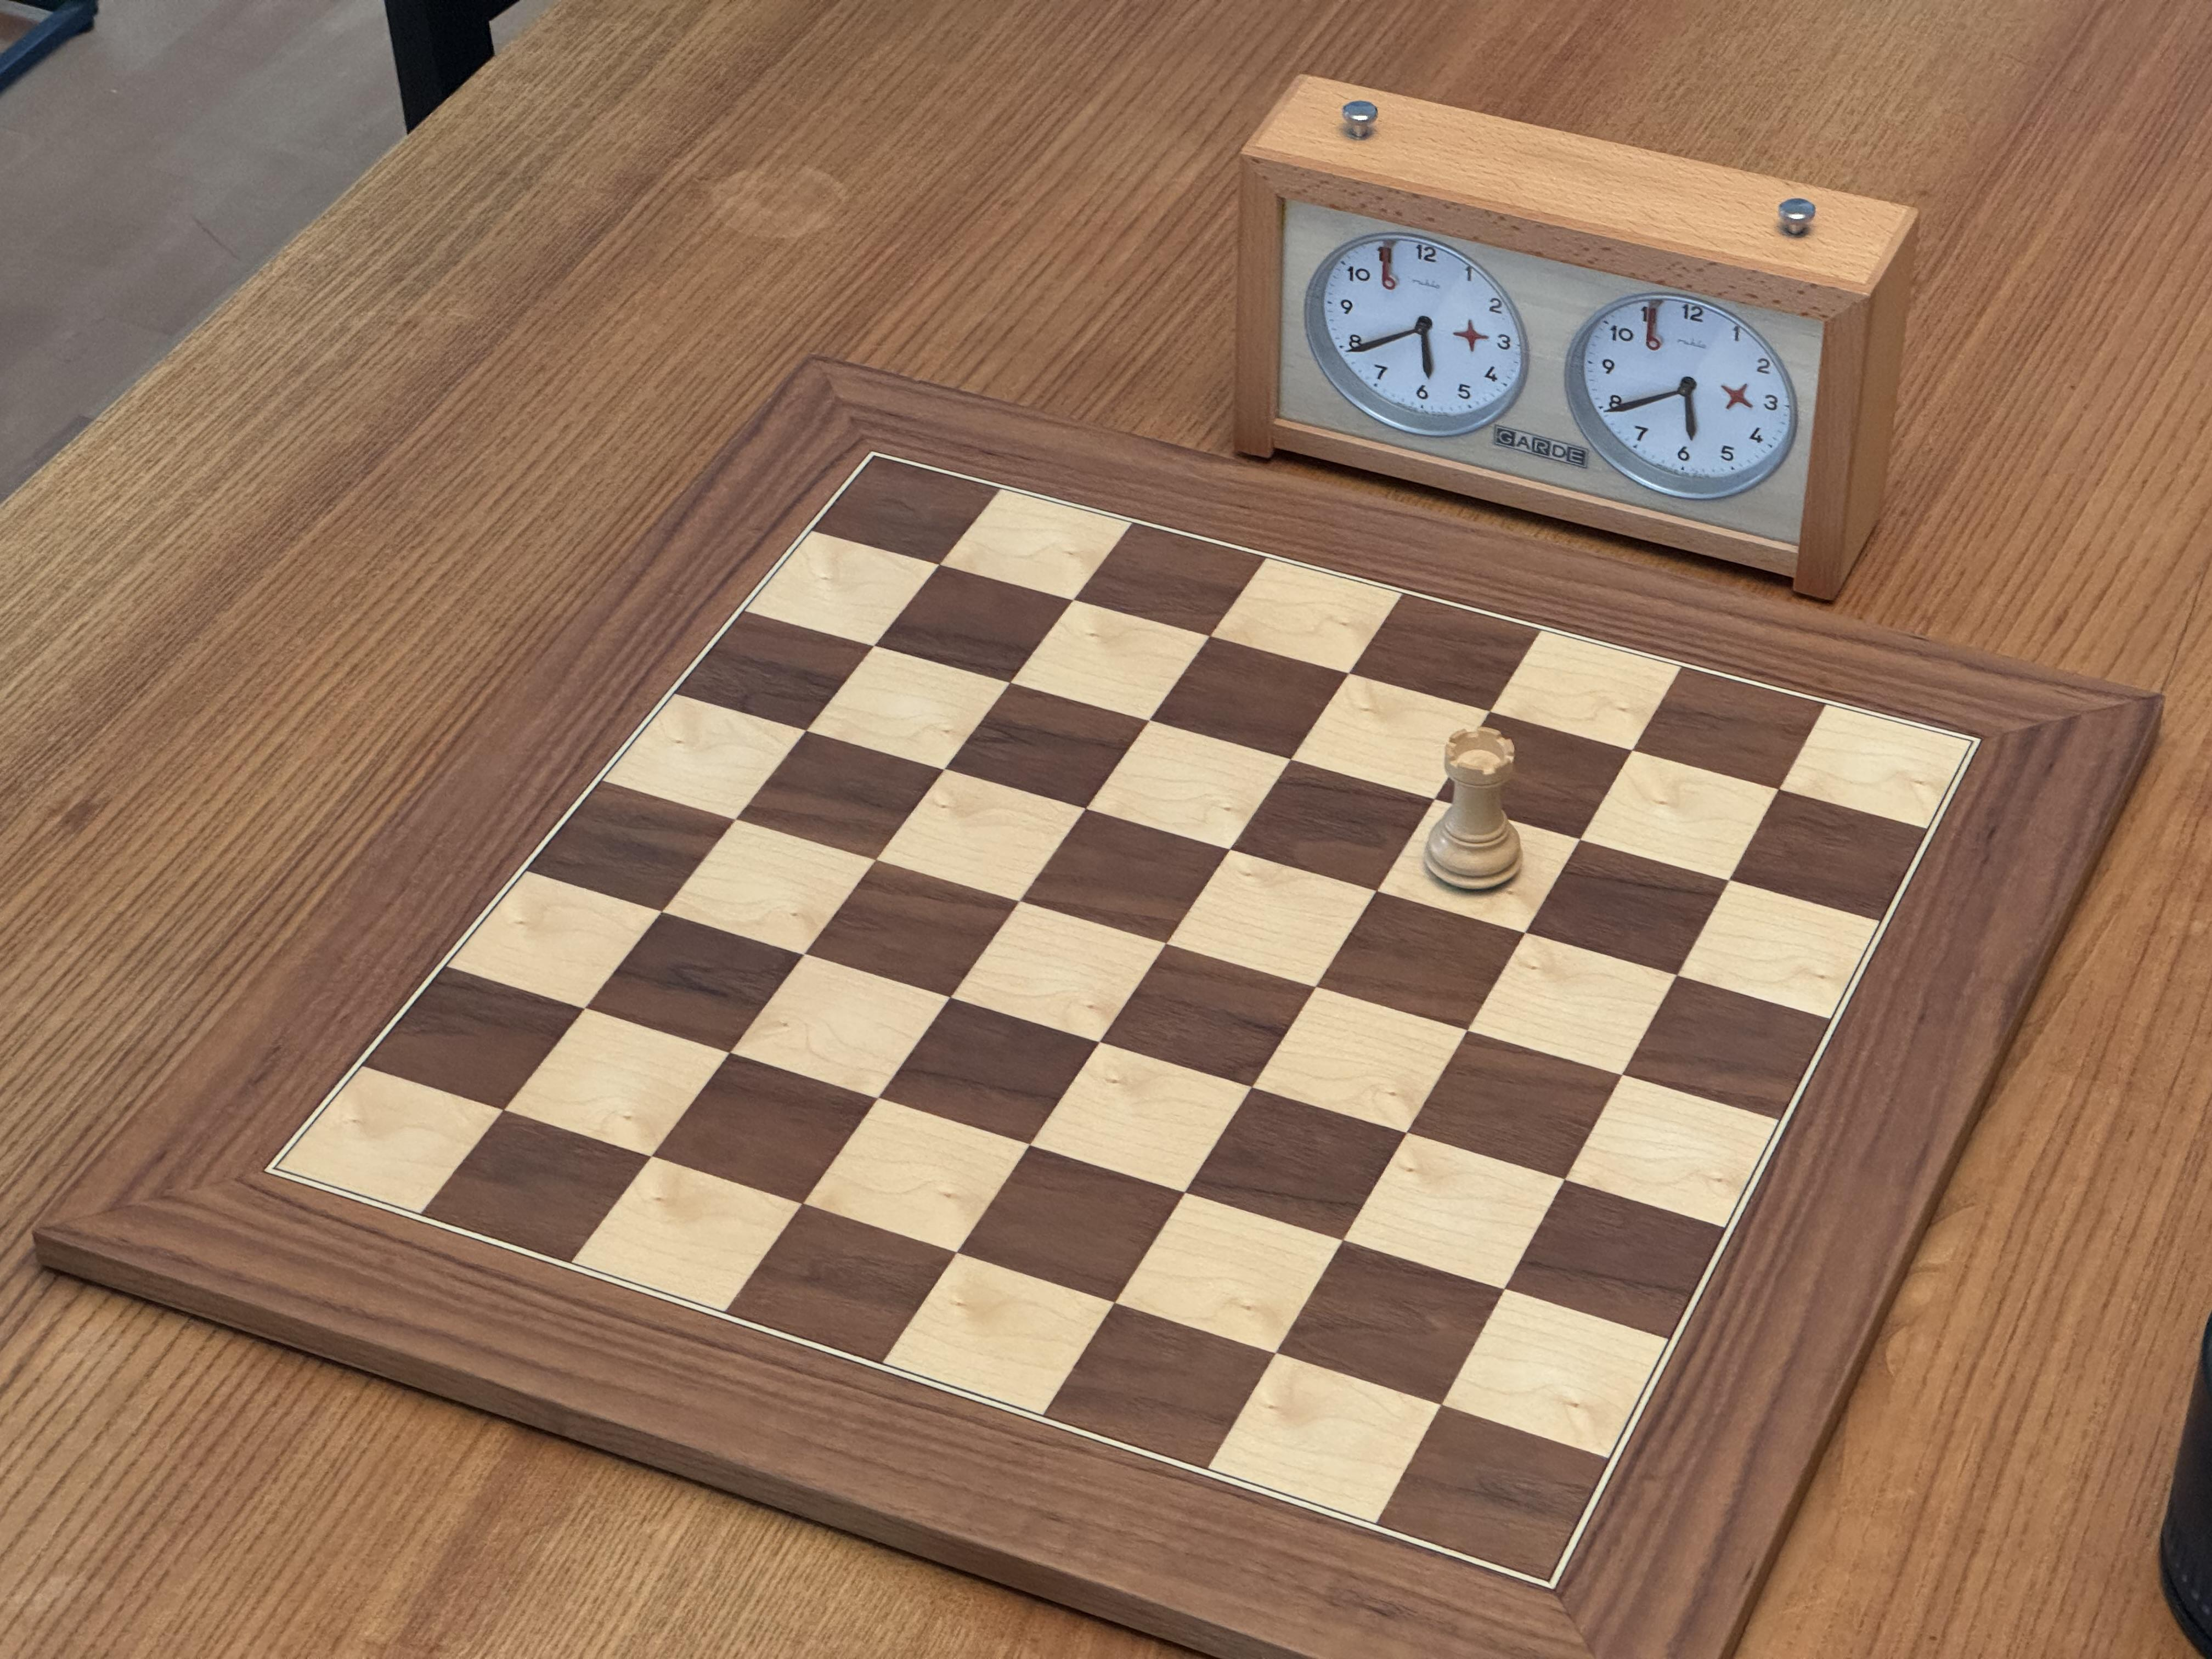White Rook: (1413, 715, 1530, 903)
